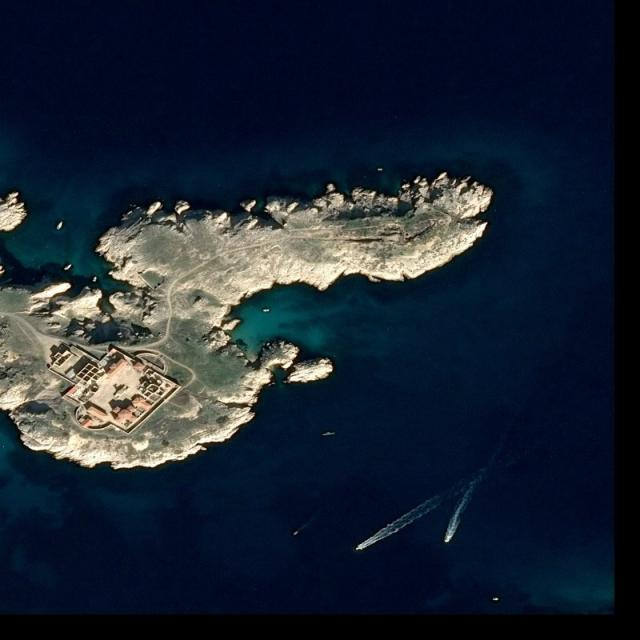ship: (443, 534, 453, 545), (63, 263, 72, 271), (354, 546, 362, 554), (56, 221, 63, 230), (293, 530, 300, 537), (378, 167, 384, 172), (263, 309, 270, 313), (93, 276, 97, 282), (494, 598, 499, 601)
